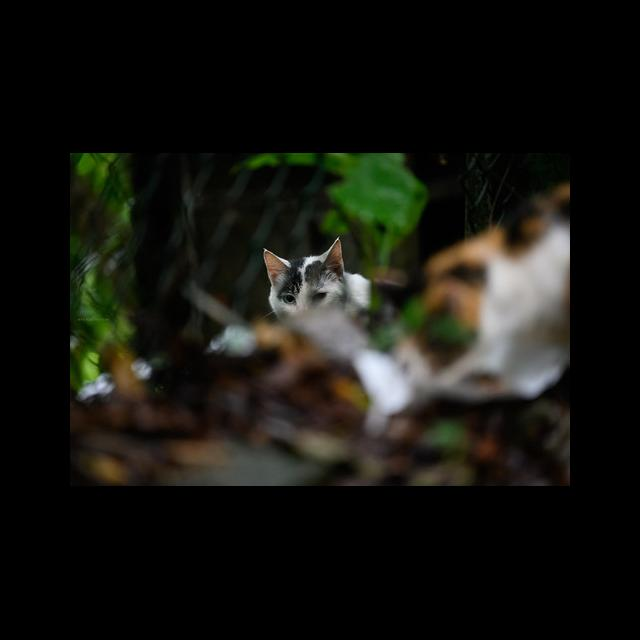animals: (261, 237, 347, 321)
